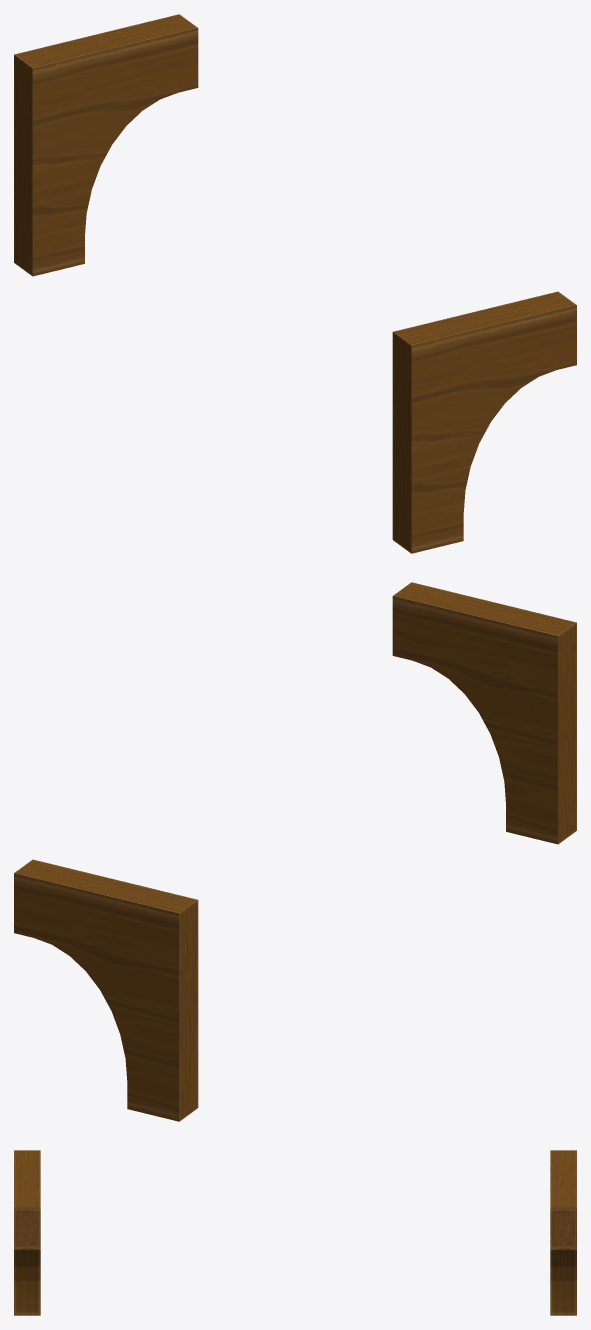
Rendered from SM_Balcony_01_Support.fbx.
The picture shows the model from 3 angles, top to bottom: view 1: azimuth 30°, elevation 25°; view 2: azimuth 150°, elevation 25°; view 3: azimuth 270°, elevation 25°; orthographic projection. The views are drawn at different scales.
Visible parts, largest first — view 1: SM_Balcony_01_Support; view 2: SM_Balcony_01_Support; view 3: SM_Balcony_01_Support.
Part boxes in pixels (x1=…): SM_Balcony_01_Support: x1=14, y1=14, x2=576, y2=553; SM_Balcony_01_Support: x1=14, y1=582, x2=576, y2=1121; SM_Balcony_01_Support: x1=14, y1=1150, x2=576, y2=1315.
Size of the model in its own units: 0.9581 by 1.15 by 3.99.
